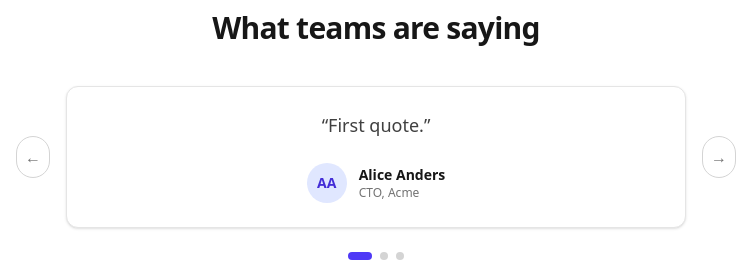
Test: TestimonialCarousel › wraps around from the last to the first testimonial
This screenshot has width=753, height=277.
Click the button named "Previous testimonial": click(33, 157) 16,136 -> 50,178
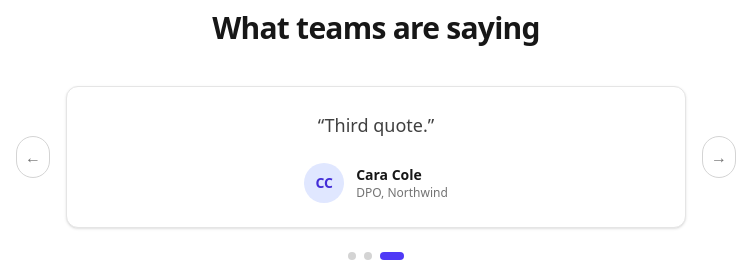
expect the text "“Third quote.”" is shown: met, box 318,113 -> 434,137
